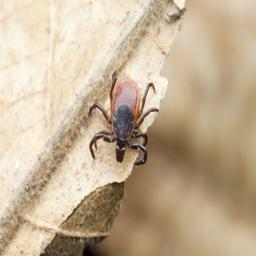Ixodes scapularis: (87, 78, 158, 164)
